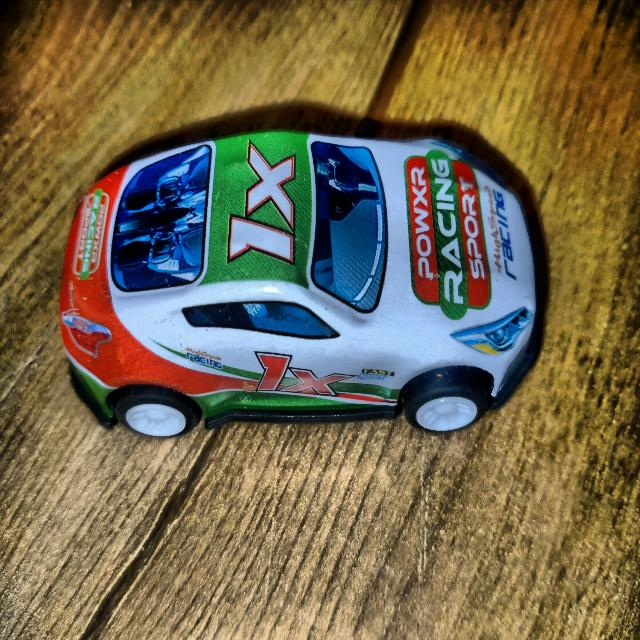Car: (60, 131, 543, 436)
